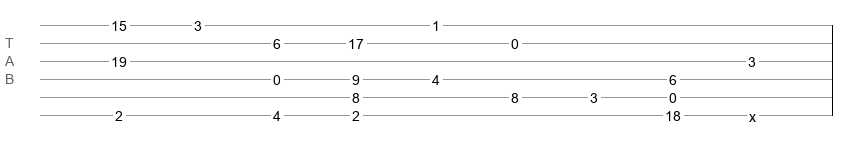0: (273, 72, 281, 82), (511, 36, 519, 46), (669, 90, 677, 100)
1: (432, 18, 440, 28)
15: (111, 18, 127, 28)
17: (348, 36, 364, 46)
18: (665, 108, 681, 118)
19: (111, 54, 127, 64)
2: (115, 108, 123, 118), (352, 108, 360, 118)
3: (194, 18, 202, 28), (590, 90, 598, 100), (748, 54, 756, 64)
4: (273, 108, 281, 118), (432, 72, 440, 82)
6: (273, 36, 281, 46), (669, 72, 677, 82)
8: (352, 90, 360, 100), (511, 90, 519, 100)
9: (352, 72, 360, 82)
x: (749, 109, 756, 117)
